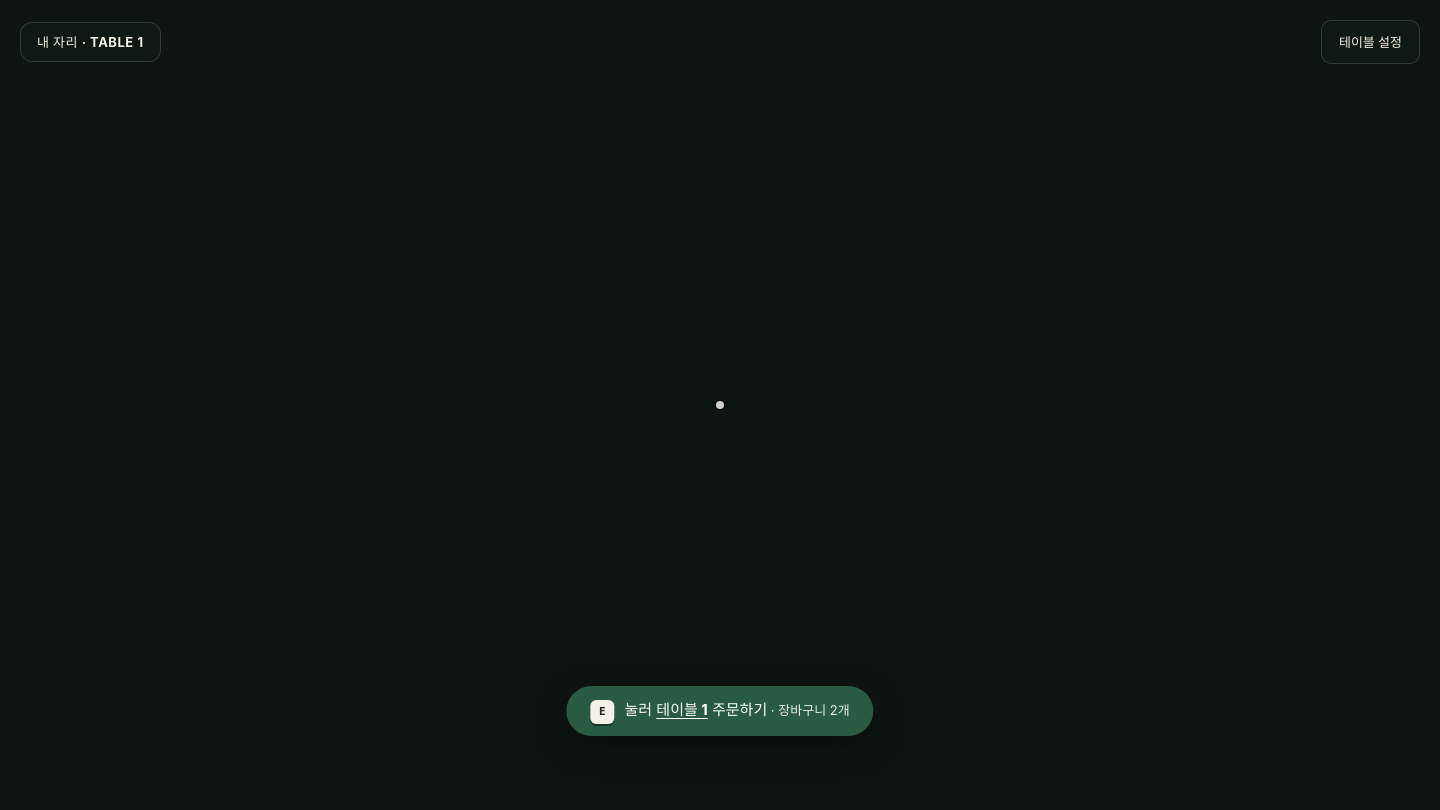
restores and edits the saved cart
The width and height of the screenshot is (1440, 810).
Press KeyE
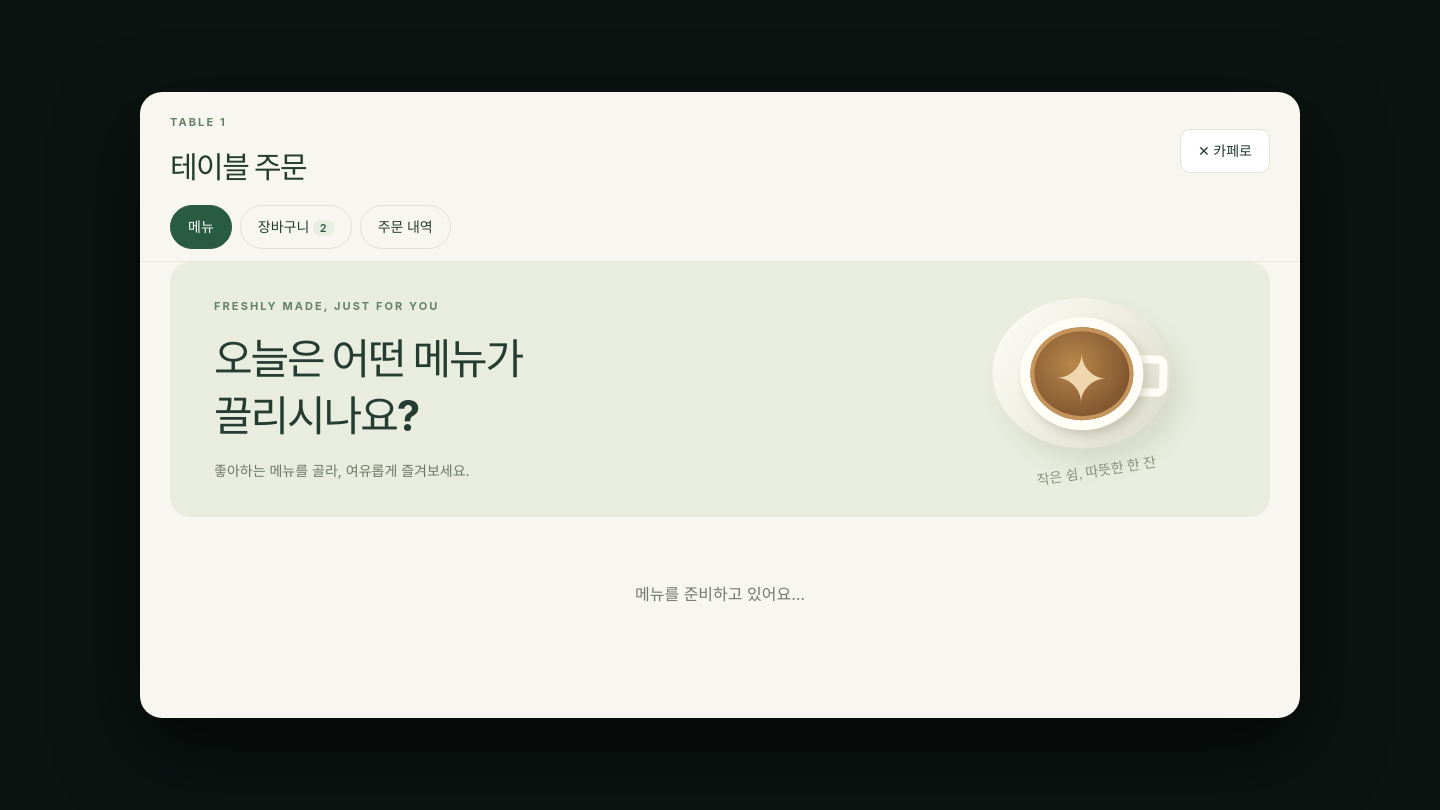
Click the button with test id "tab-cart" at (296, 227), box [240,205,352,249]
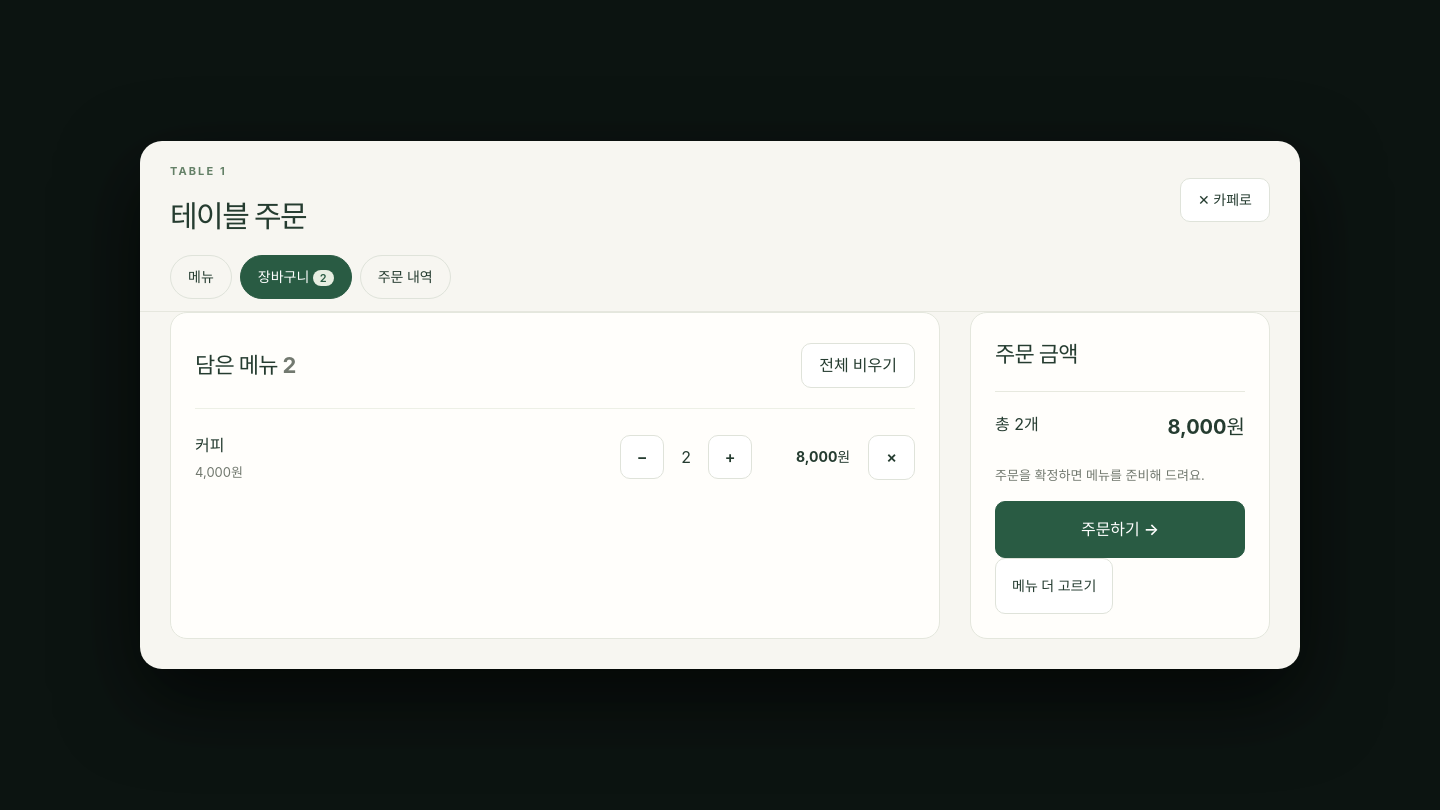
Check: the text named "커피 수량" reads "2", box [681,447,691,467]
Click the button with test id "cart-increase-1" at (730, 457), box [708,435,752,479]
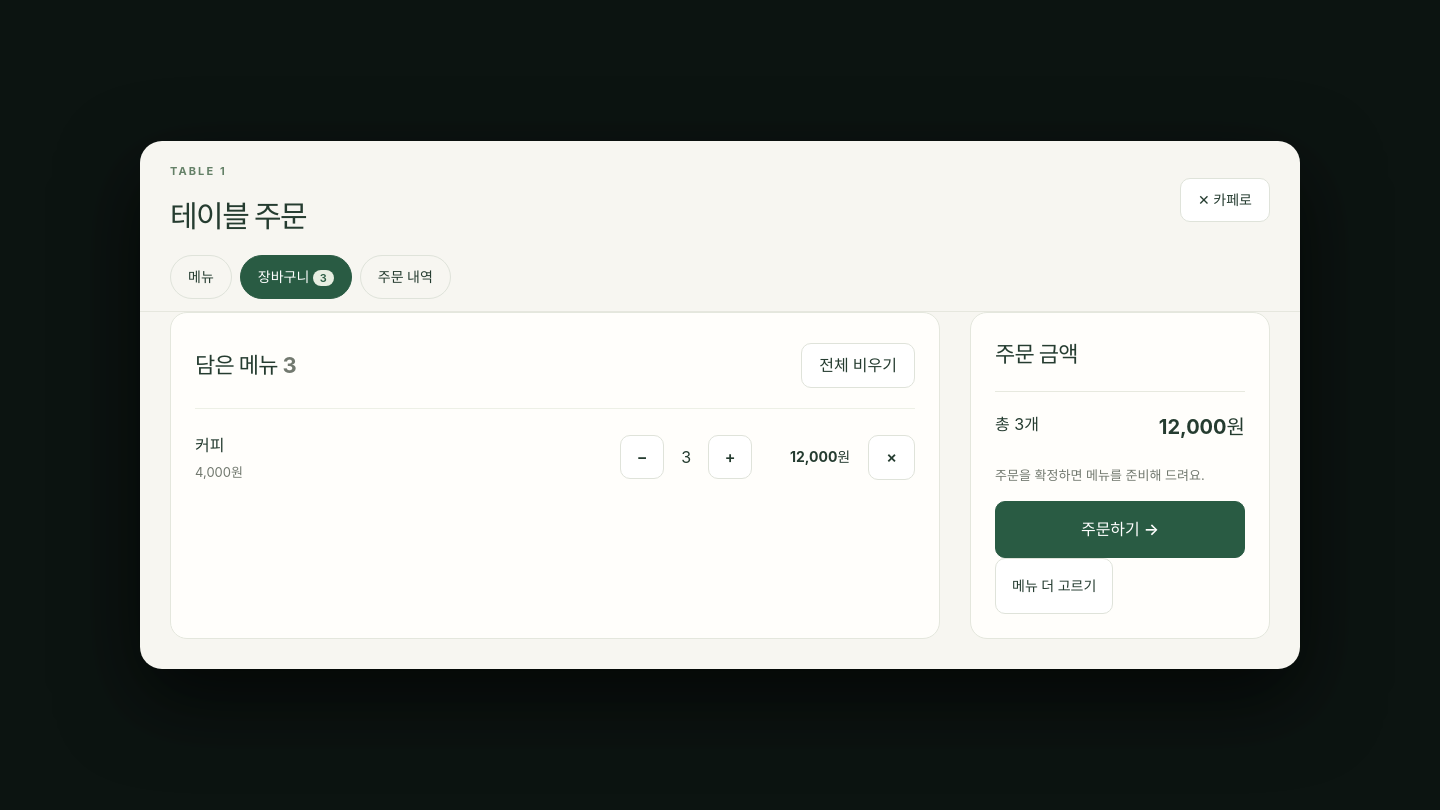
Click the button with test id "cart-remove-1" at (892, 457), box [868,435,915,480]
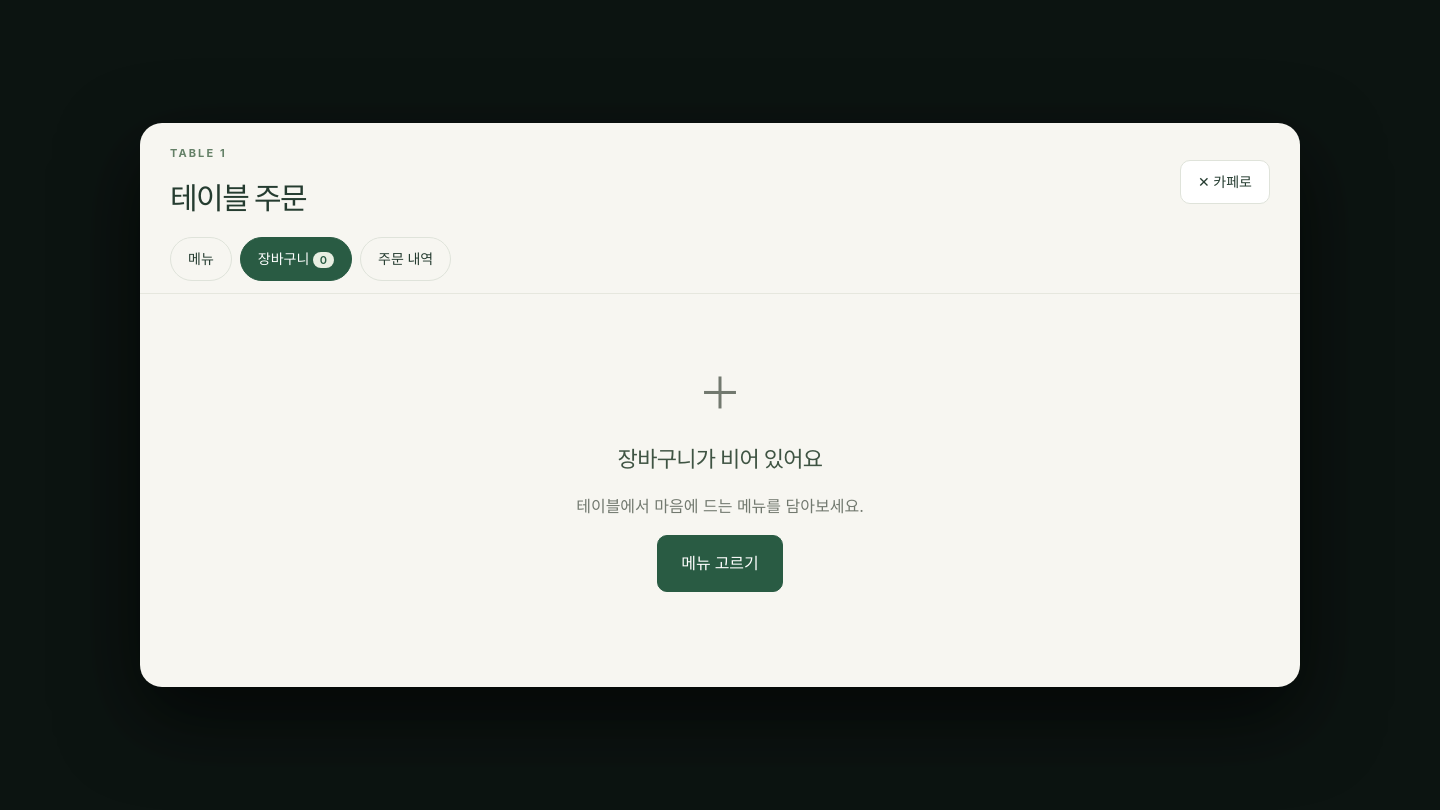
Check: the heading "장바구니가 비어 있어요" is shown, box [618,446,822,472]
